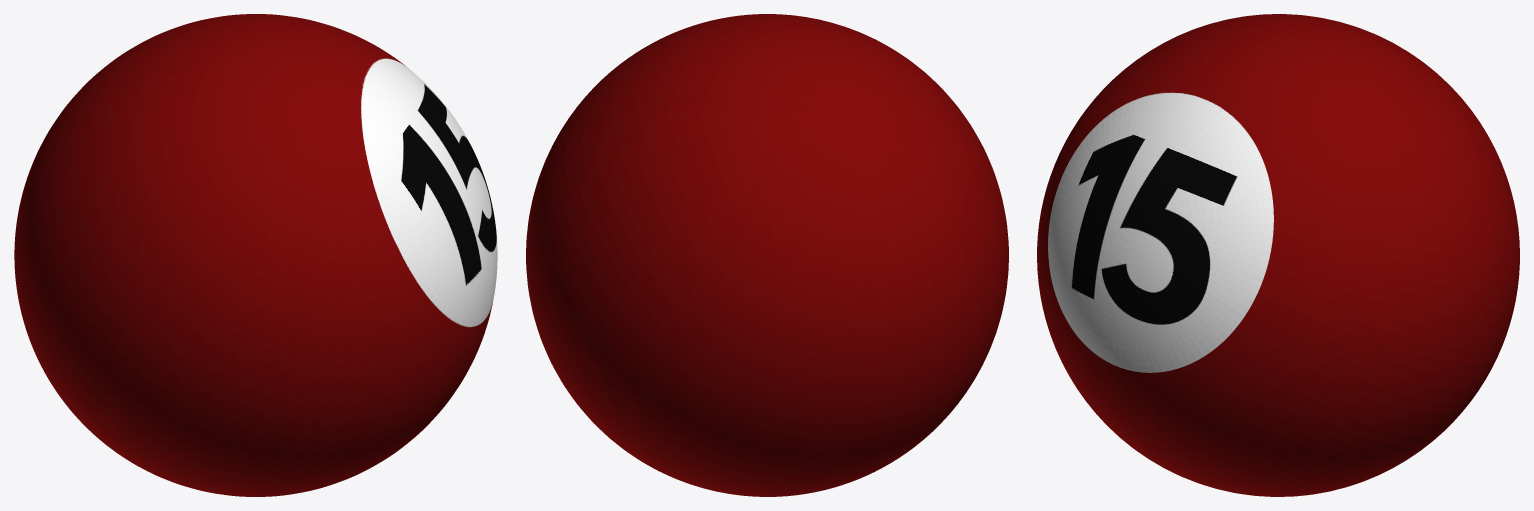
3 views of the same model, side by side, from view 1: azimuth 30°, elevation 25°; view 2: azimuth 150°, elevation 25°; view 3: azimuth 270°, elevation 25° (orthographic).
Parts seen in each view (by area): view 1: Sphere; view 2: Sphere; view 3: Sphere.
Boxes of the visible parts, x1,y1,x2,y2 form: Sphere: [14, 14, 497, 496]; Sphere: [526, 14, 1008, 496]; Sphere: [1037, 14, 1519, 496].
Bounding box in the file's own units: 3.7 × 3.7 × 3.7.
Materials: 1 (1 with a texture image).
